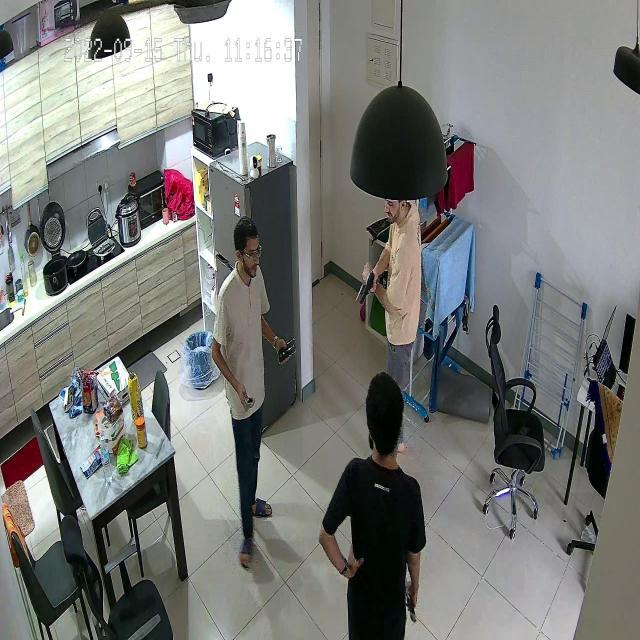Gun: (348, 262, 387, 309)
